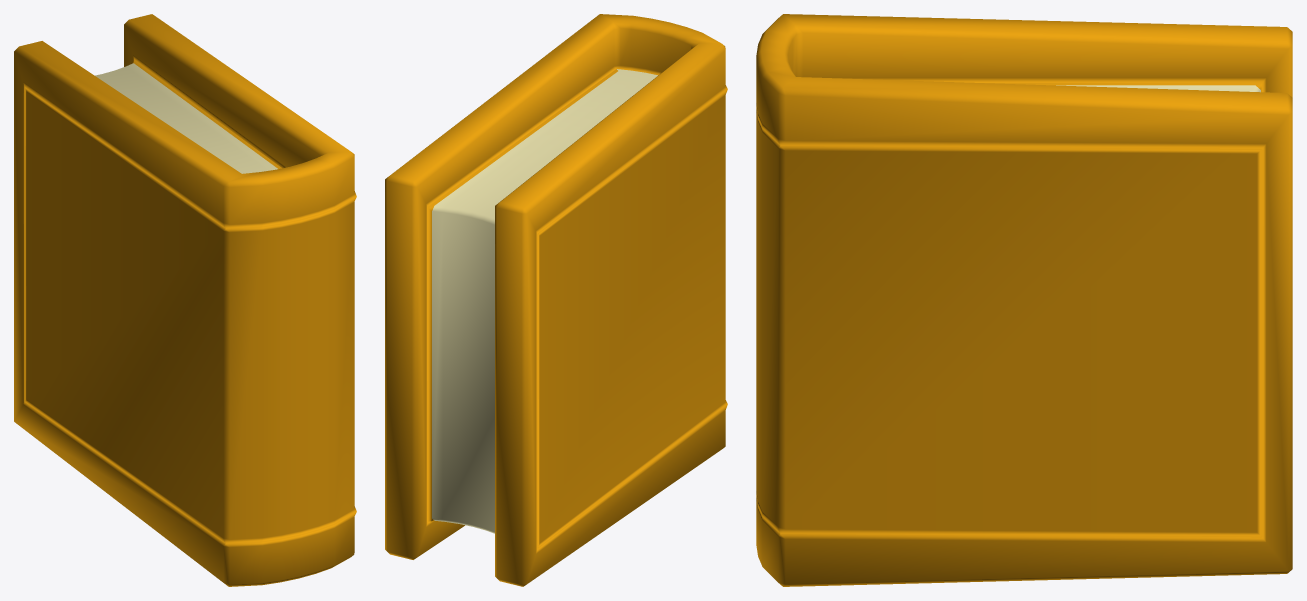
The model's file is Book_Yellow.fbx.
The picture shows the model from 3 angles, left to right: view 1: azimuth 30°, elevation 25°; view 2: azimuth 150°, elevation 25°; view 3: azimuth 270°, elevation 25°; orthographic projection. The views are drawn at different scales.
Parts seen in each view (by area): view 1: Book.001; view 2: Book.001; view 3: Book.001.
Part boxes in pixels (bbox=[...]): Book.001: bbox=[14, 14, 356, 586]; Book.001: bbox=[385, 14, 727, 586]; Book.001: bbox=[756, 14, 1292, 586].
Bounding box in the file's own units: 5.71 × 15.58 × 15.16.
